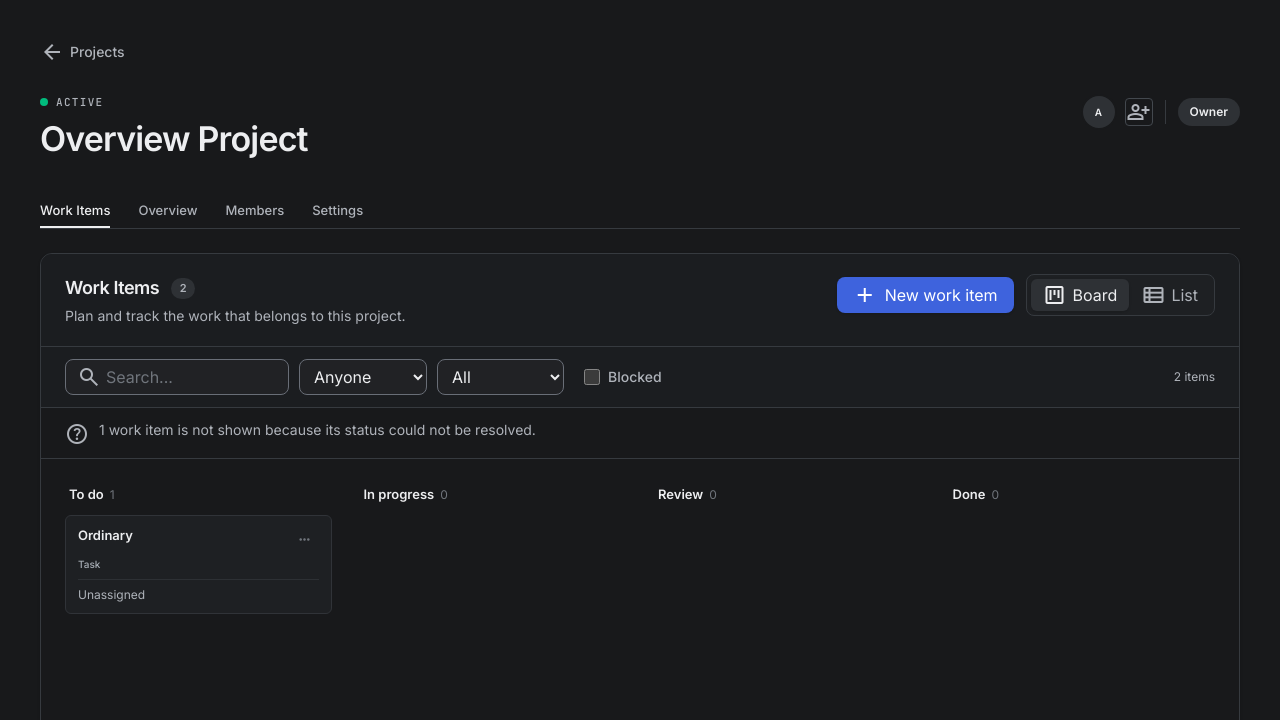
Test: Project Work Items status configuration safety › an unknown statusDefinitionId never lands in a guessed Todo column
The image size is (1280, 720).
The List names the condition instead of inventing a status.
Click the button "List".
click(1170, 295)  # box [1129, 279, 1210, 311]
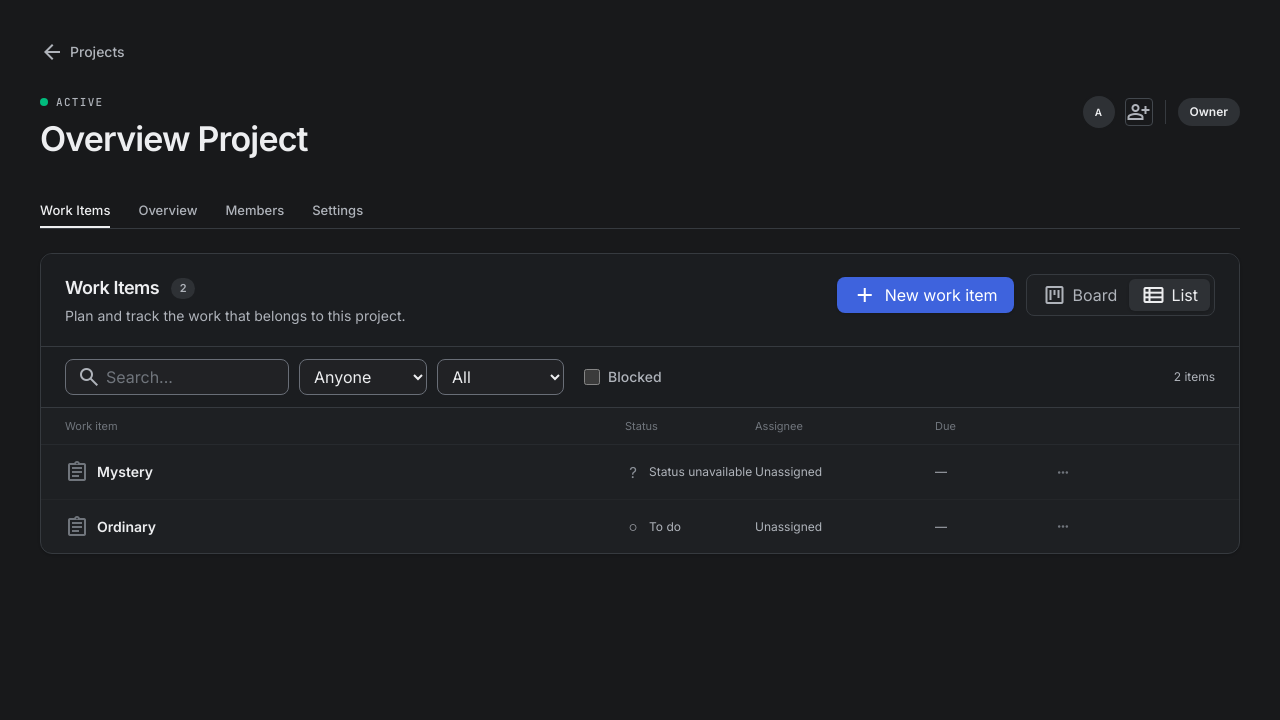
Now the text "Status unavailable" is shown, box [649, 464, 752, 480]
Now the button with aria-label "Open Mystery" is shown, box [65, 458, 1077, 486]
